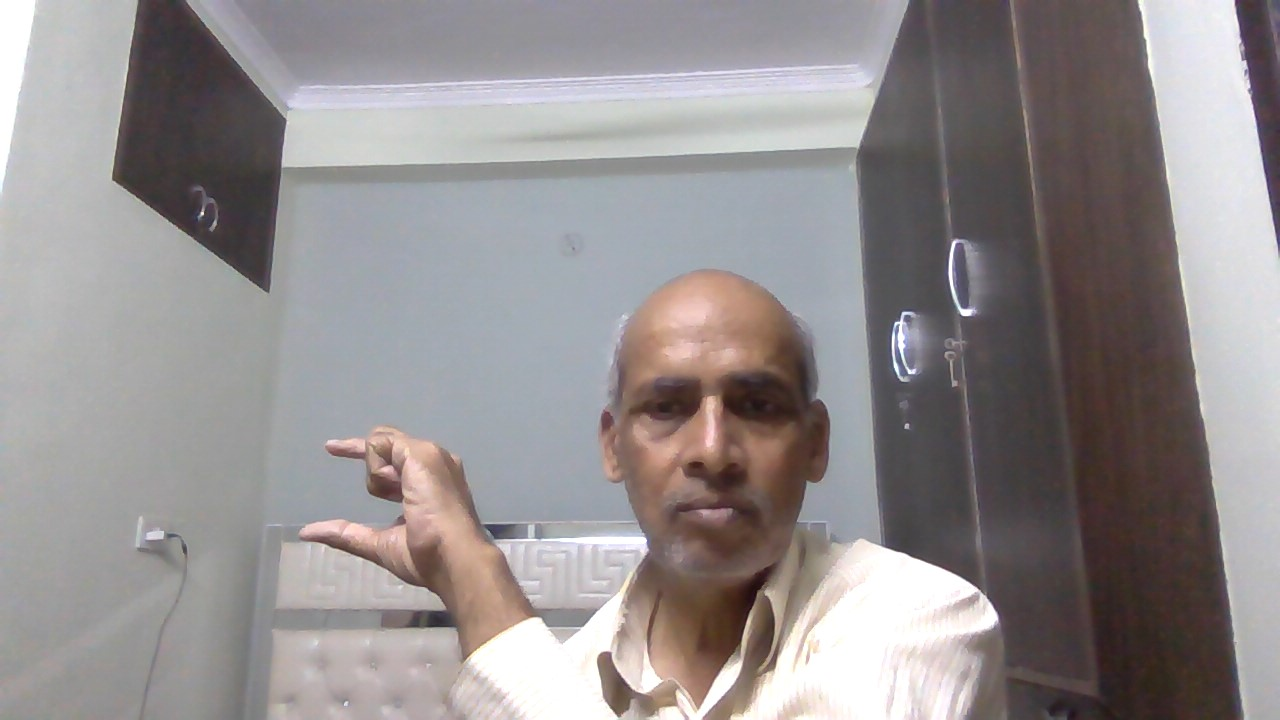Paste: (283, 419, 516, 609)
